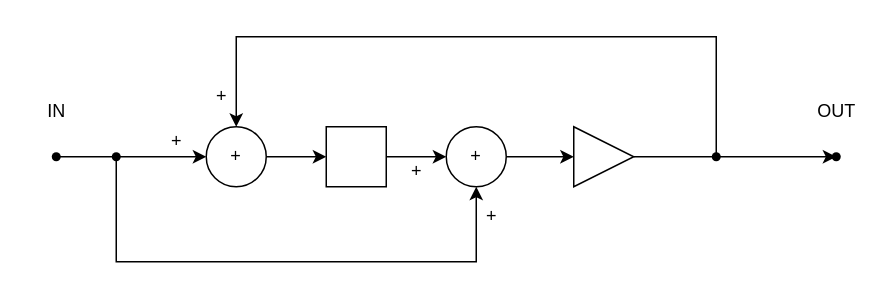
Image size: 893x300. Some labels were removed from this diagram. Here are the shapes that lost their labels. From the top down, the centre of each, then its label:
At [355,156]: "Z -1".
At [603,156]: "x 1/3".
